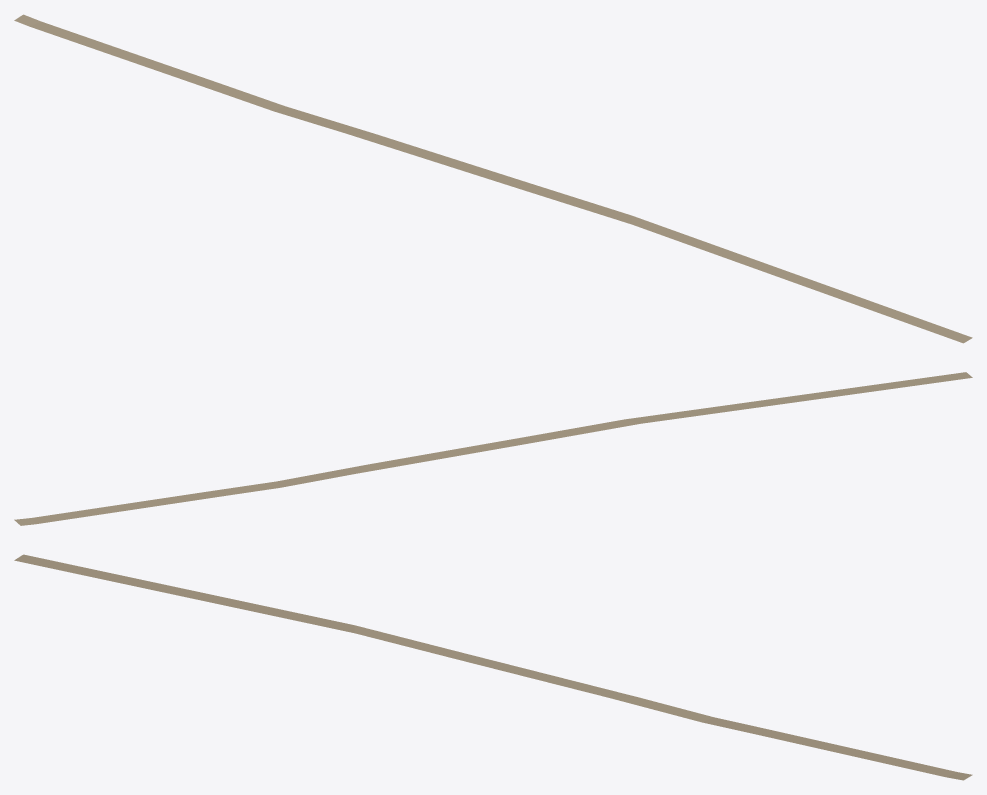
The model's file is farm_4_-2_track.glb.
The picture shows the model from 3 angles, top to bottom: view 1: azimuth 90°, elevation 25°; view 2: azimuth 150°, elevation 25°; view 3: azimuth 270°, elevation 25°; orthographic projection. The views are drawn at different scales.
Parts seen in each view (by area): view 1: geometry_0; view 2: geometry_0; view 3: geometry_0.
Boxes of the visible parts, left/top/right/bottom form: geometry_0: left=14, top=14, right=972, bottom=343; geometry_0: left=14, top=372, right=972, bottom=525; geometry_0: left=14, top=554, right=972, bottom=780.
Bounding box in the file's own units: 128 × 11.15 × 188.
